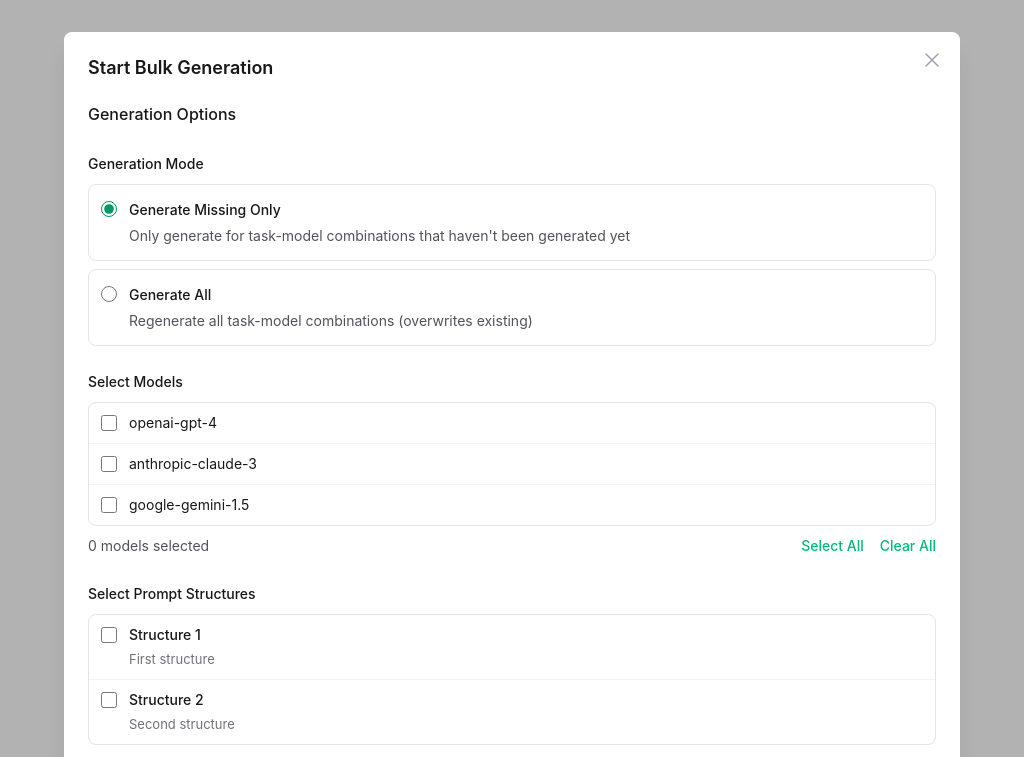
Test case: GenerationControlModal › Structure Selection › disables start button when structures exist but none selected
This screenshot has width=1024, height=757.
Click the checkbox labelled "openai-gpt-4".
click(109, 423)  # box [101, 415, 117, 431]
(page scrolled)
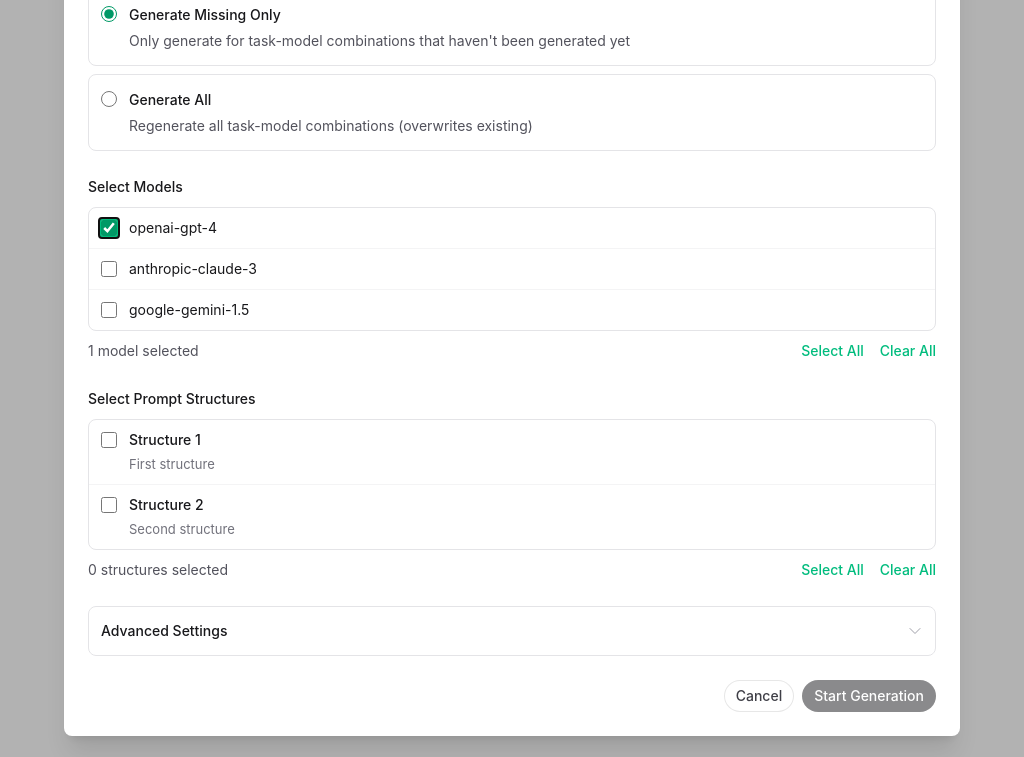
Check: the button "Start Generation" is disabled, box [802, 680, 936, 712]
